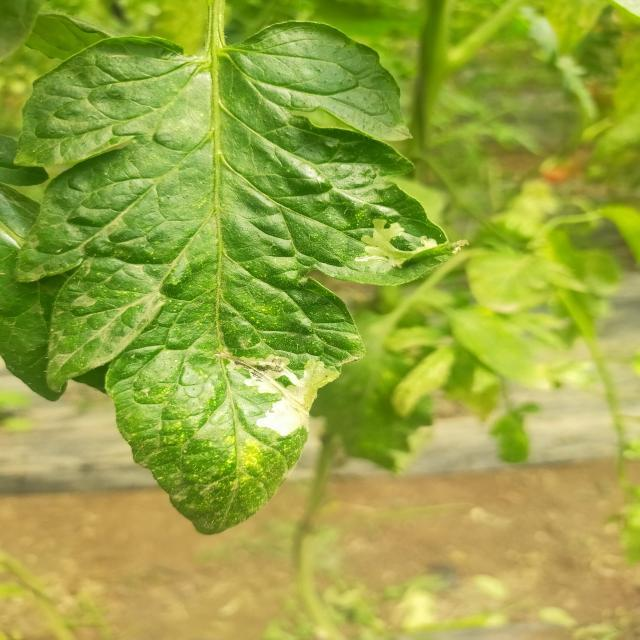Tuta absoluta: (236, 354, 339, 440), (355, 216, 440, 273)
